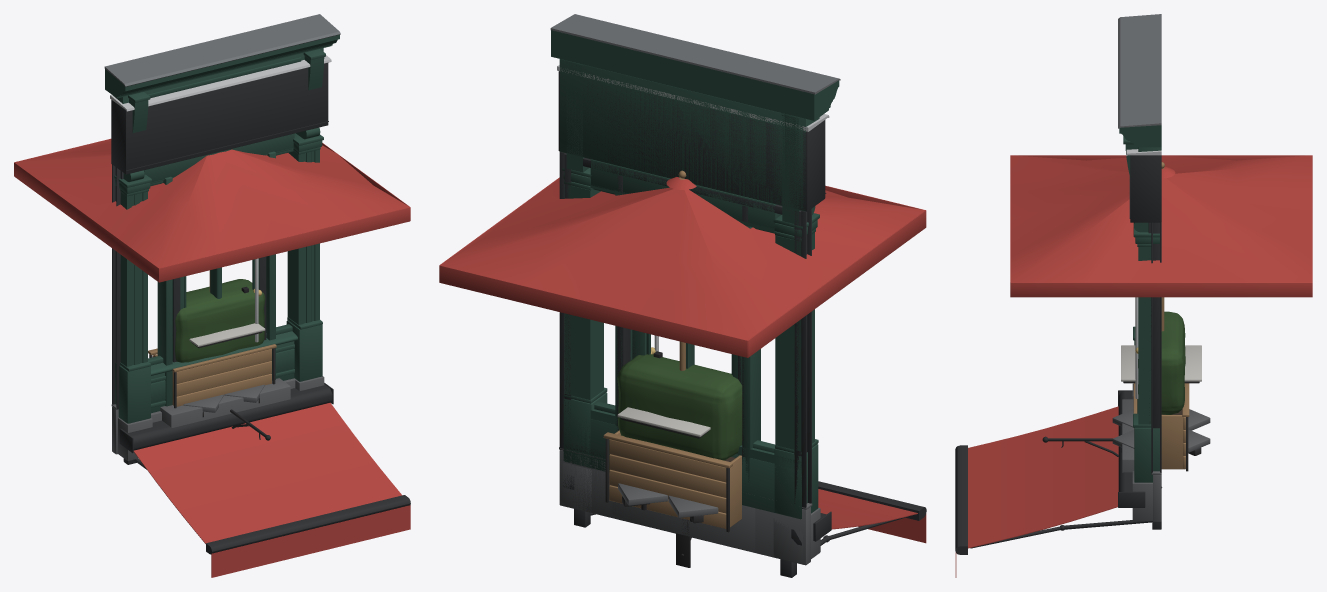
The model's file is shopkit.glb.
The picture shows the model from 3 angles, left to right: view 1: azimuth 30°, elevation 25°; view 2: azimuth 150°, elevation 25°; view 3: azimuth 270°, elevation 25°; orthographic projection. The views are drawn at different scales.
Visible parts, largest first — view 1: awning, parasol_sq, front_classic, front_modern, planter, door_classic, riser_classic, door_modern, table_sq; view 2: front_classic, parasol_sq, front_modern, planter, riser_classic, door_classic, awning, door_modern, table_sq; view 3: parasol_sq, awning, front_classic, front_modern, planter, table_sq, door_classic.
Boxes of the visible parts, left/top/right/bottom form: awning: left=119, top=383, right=410, bottom=577; parasol_sq: left=14, top=138, right=410, bottom=417; front_classic: left=104, top=14, right=340, bottom=460; front_modern: left=110, top=55, right=331, bottom=454; planter: left=148, top=279, right=276, bottom=408; door_classic: left=157, top=151, right=290, bottom=427; riser_classic: left=148, top=324, right=297, bottom=422; door_modern: left=172, top=256, right=266, bottom=362; table_sq: left=189, top=323, right=265, bottom=347; front_classic: left=550, top=14, right=840, bottom=564; parasol_sq: left=439, top=170, right=926, bottom=523; front_modern: left=557, top=65, right=829, bottom=565; planter: left=603, top=354, right=742, bottom=532; riser_classic: left=564, top=401, right=801, bottom=563; door_classic: left=610, top=194, right=760, bottom=552; awning: left=563, top=475, right=926, bottom=577; door_modern: left=612, top=175, right=752, bottom=551; table_sq: left=617, top=407, right=710, bottom=521; parasol_sq: left=1010, top=155, right=1312, bottom=455; awning: left=955, top=390, right=1161, bottom=577; front_classic: left=1118, top=14, right=1161, bottom=520; front_modern: left=1126, top=149, right=1161, bottom=521; planter: left=1133, top=311, right=1189, bottom=471; table_sq: left=1121, top=345, right=1201, bottom=383; door_classic: left=1122, top=347, right=1138, bottom=472.
Bounding box in the file's own units: 2.61 × 4.37 × 3.08.
